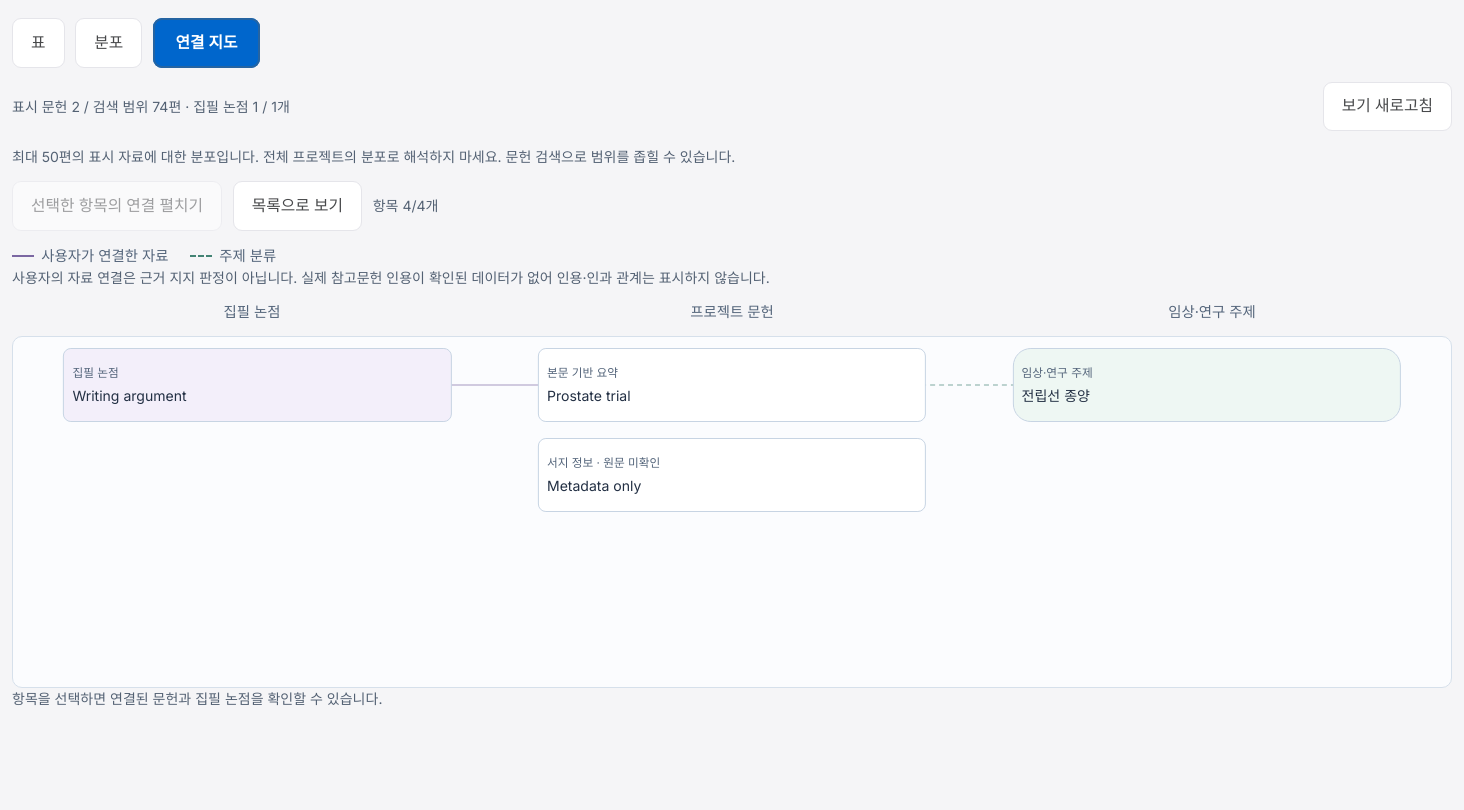
Test: project literature views › reports authorization loss without rendering a previous graph
Expected: the text "표시 문헌 2 / 검색 범위 74편 · 집필 논점 1 / 1개" is shown, [12, 98, 290, 115]
Click the button "보기 새로고침": click(1387, 107) [1323, 82, 1452, 131]
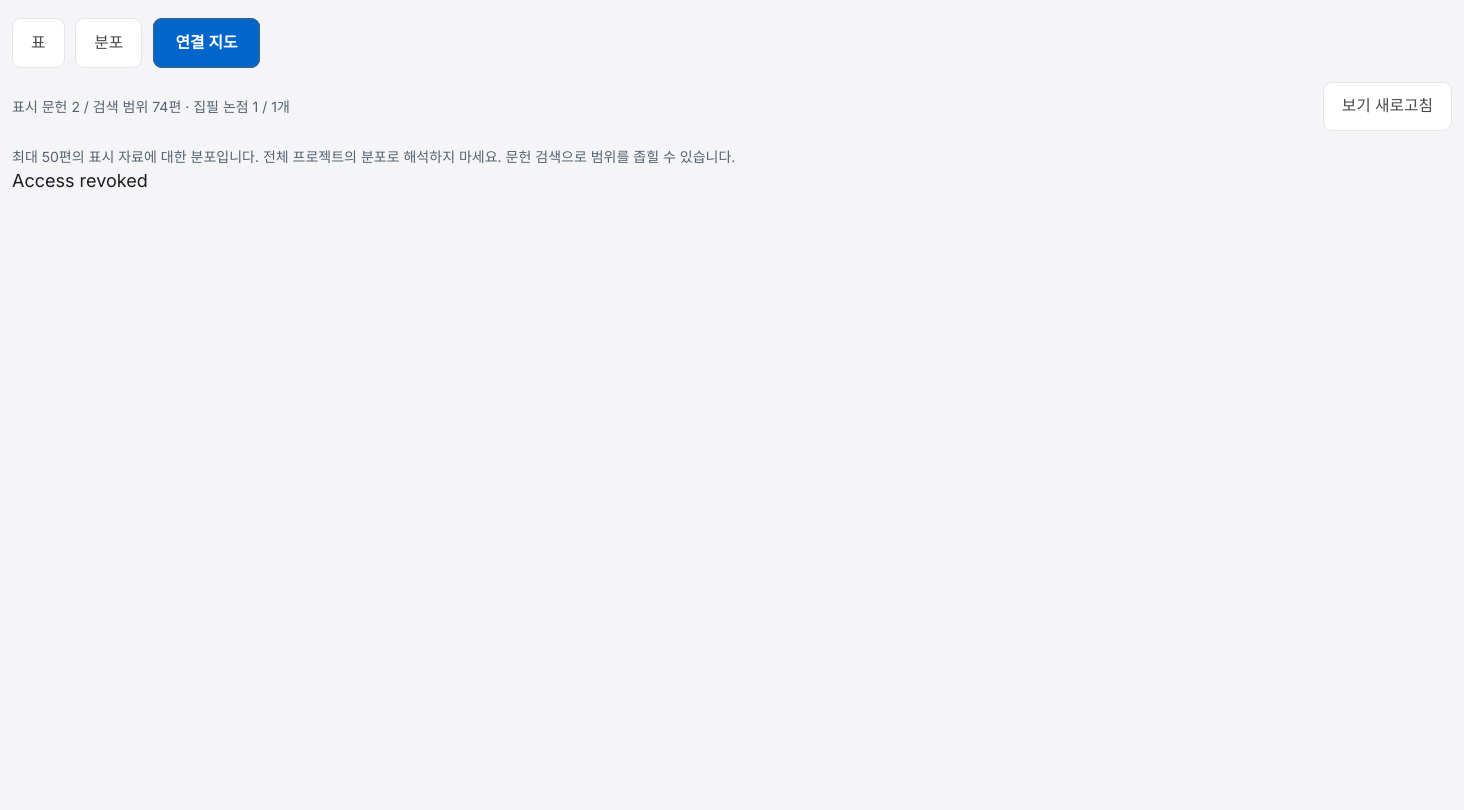
Now the message reads "Access revoked", box [12, 170, 148, 191]
Now the button "본문 기반 요약 Prostate trial" is gone
